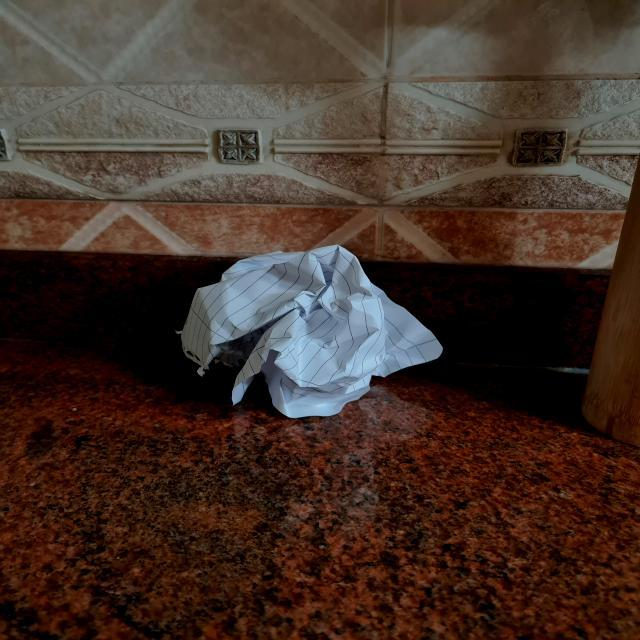Paper: (146, 220, 458, 443)
